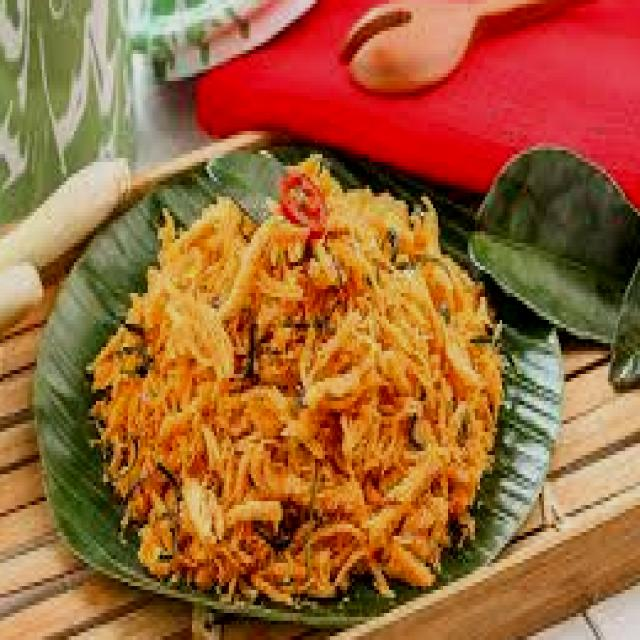ayam_suwir: (89, 164, 484, 583)
